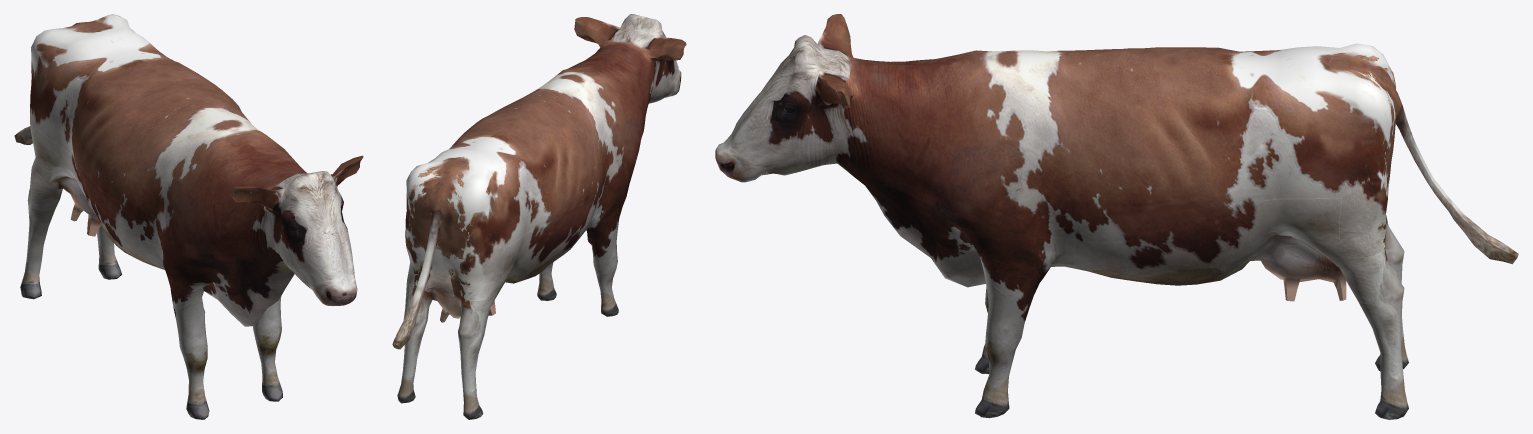
Rendered from Cow.fbx.
3 views of the same model, side by side, from view 1: azimuth 30°, elevation 25°; view 2: azimuth 150°, elevation 25°; view 3: azimuth 270°, elevation 25° (orthographic). The views are drawn at different scales.
Visible parts, largest first — view 1: tornado_cow; view 2: tornado_cow; view 3: tornado_cow.
Part boxes in pixels (bbox=[...]): tornado_cow: bbox=[14, 14, 363, 419]; tornado_cow: bbox=[392, 14, 686, 419]; tornado_cow: bbox=[715, 14, 1518, 419].
Size of the model in its own units: 740 by 1431 by 2969.
1 material, 1 textured.
